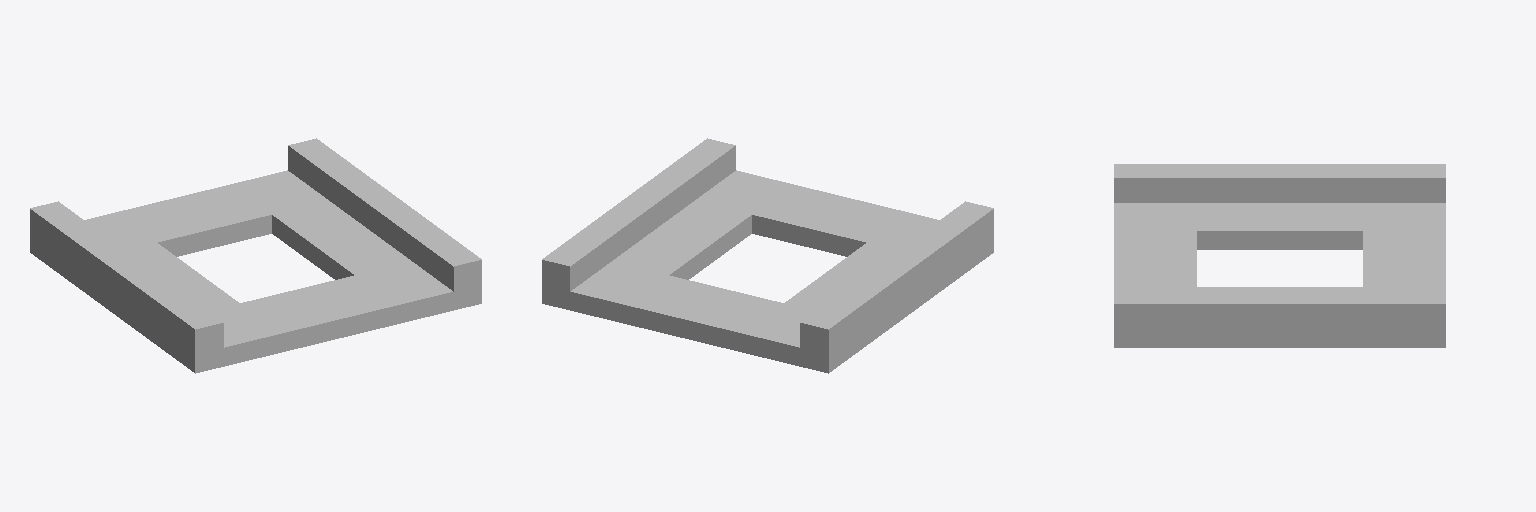
Rendered from Gap_01.obj.
3 views of the same model, side by side, from view 1: azimuth 30°, elevation 25°; view 2: azimuth 150°, elevation 25°; view 3: azimuth 270°, elevation 25° (orthographic).
Parts seen in each view (by area): view 1: Mesh1 Gap Model; view 2: Mesh1 Gap Model; view 3: Mesh1 Gap Model.
Boxes of the visible parts, x1=… form: Mesh1 Gap Model: x1=30, y1=138, x2=481, y2=373; Mesh1 Gap Model: x1=542, y1=138, x2=993, y2=373; Mesh1 Gap Model: x1=1114, y1=164, x2=1445, y2=347.
Bounding box in the file's own units: 3 × 0.44 × 3.